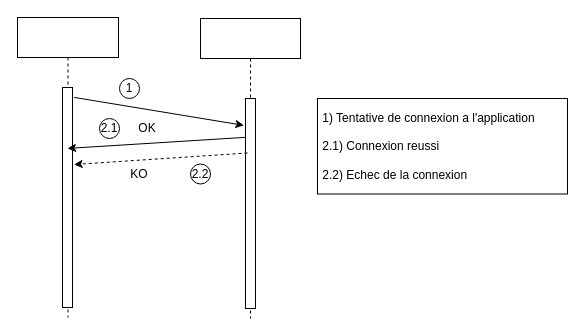
This 585x336 diagram has some shape labels left out. Each missing label, with the box of its shape:
Client1: (16, 16, 118, 318)
Serveur: (200, 18, 300, 318)
